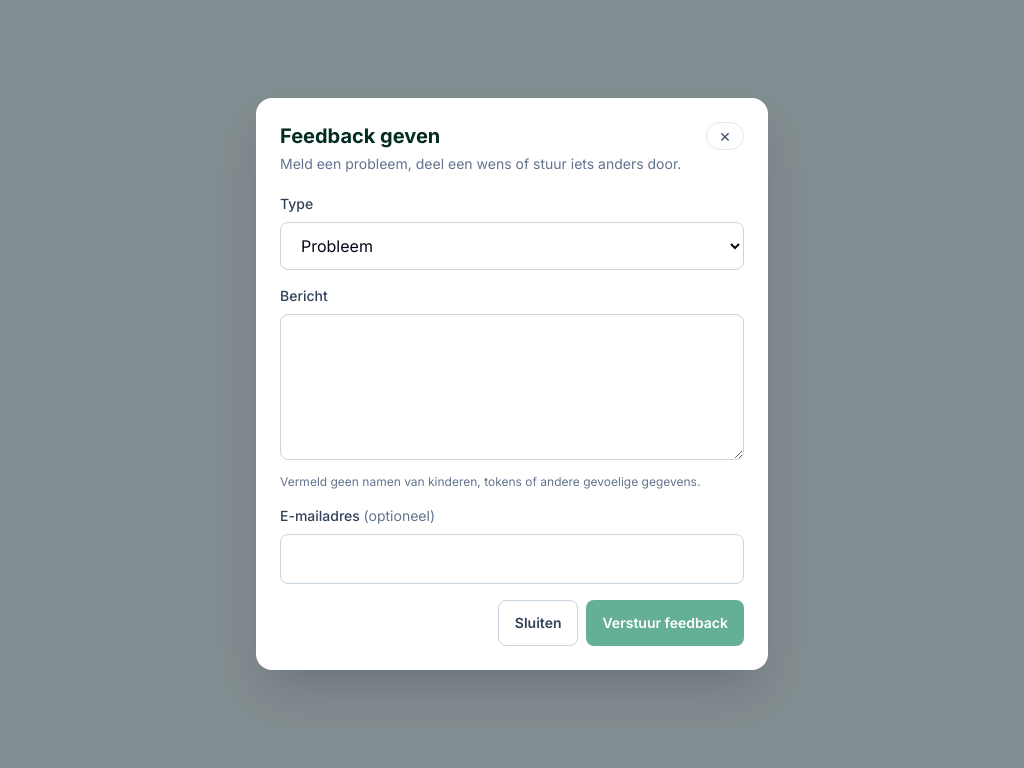
Test: ProductFeedback › behoudt invoer wanneer verzenden mislukt
Type "Deze tekst mag niet verdwijnen." into the text box with id "feedback-message" at (512, 387), box [280,314,744,460]
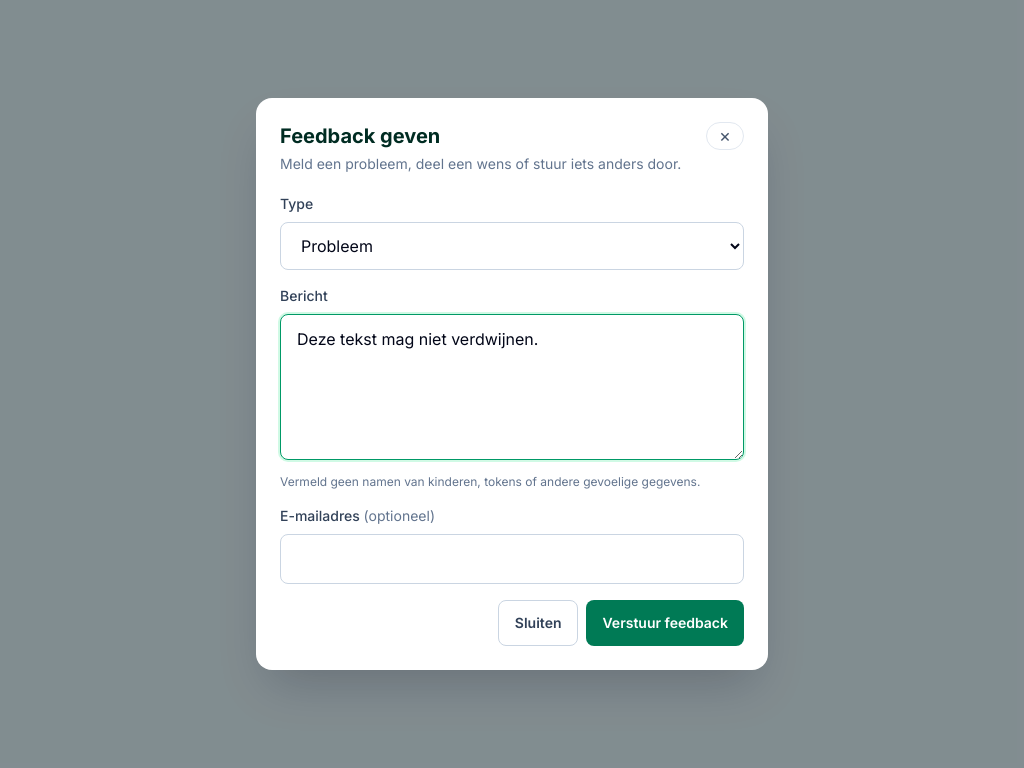
Submit the form, box [280,194,744,646]
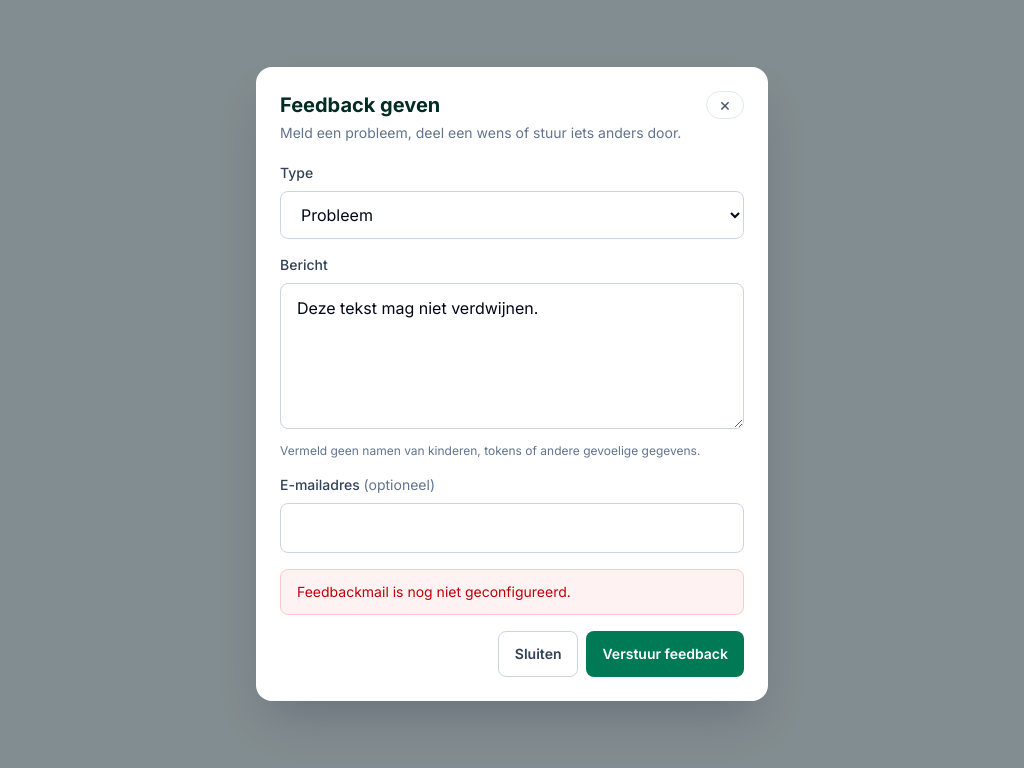
Now the text "Feedbackmail is nog niet geconfigureerd." is shown, box [280,569,744,615]
